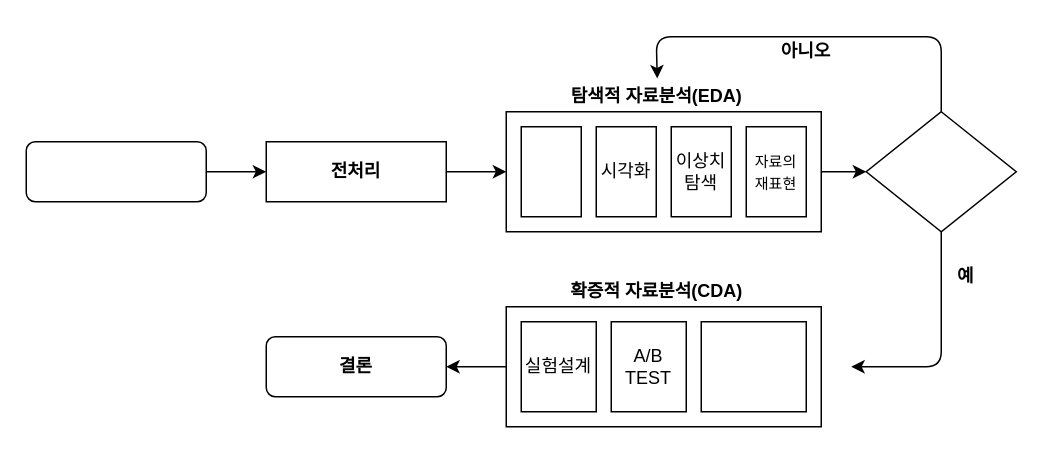
Image size: 1043x453. Some labels were removed from this diagram. The centre of each missing label's shape, as x and y in pixels:
"Chi-square test ANOVA" belongs at [753,366].
"가설도출" belongs at [940,171].
"온라인 쇼핑몰 데이터" belongs at [115,171].
"통계 요약" belongs at [550,171].
